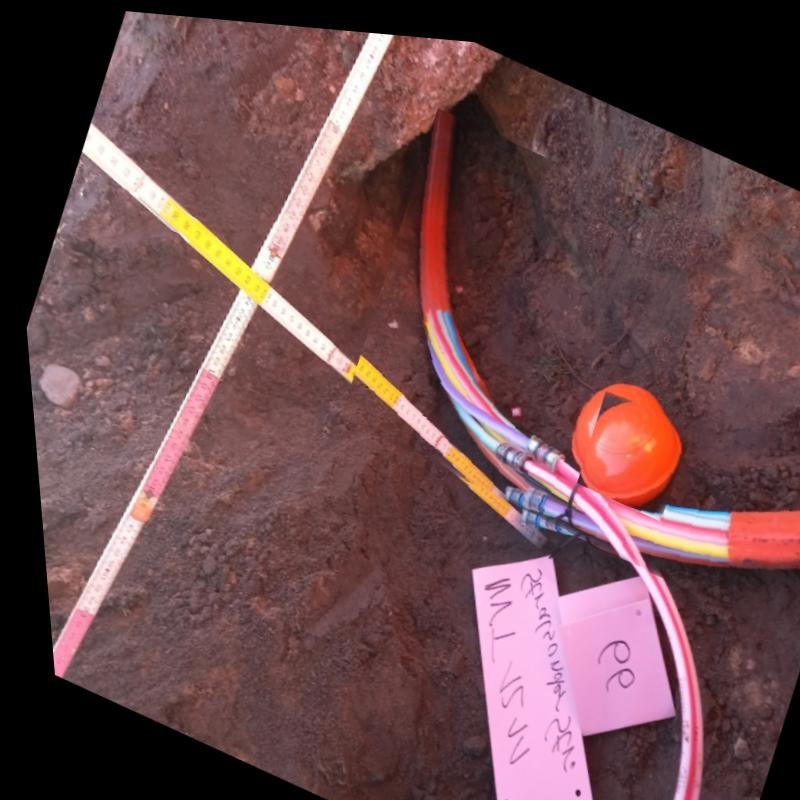Kugelmarker: (575, 392, 677, 492)
Orang-Speednetrohrchen: (417, 101, 800, 559)
